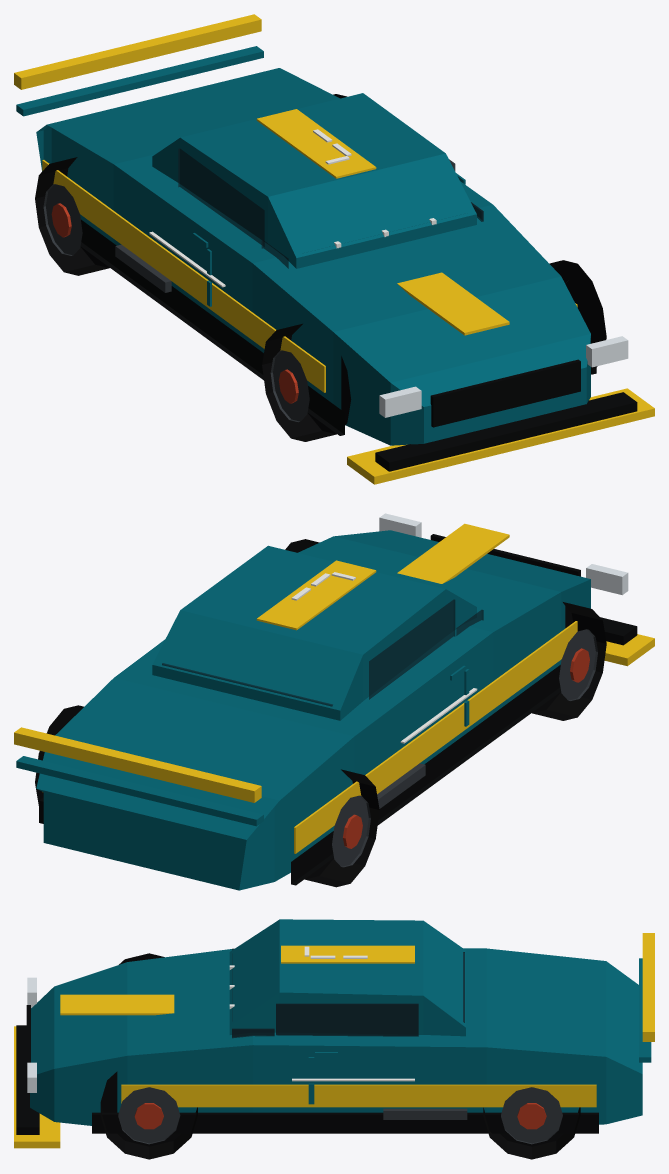
File: stock_car_07.obj
3 renders of one model, top to bottom at view 1: azimuth 30°, elevation 25°; view 2: azimuth 150°, elevation 25°; view 3: azimuth 270°, elevation 25°, orthographic. The views are drawn at different scales.
Visible parts, largest first — view 1: StockCar_07; view 2: StockCar_07; view 3: StockCar_07.
Boxes of the visible parts, x1,y1,x2,y2 form: StockCar_07: [14, 14, 654, 484]; StockCar_07: [14, 513, 654, 890]; StockCar_07: [14, 919, 654, 1159].
Bounding box in the file's own units: 2.35 × 1.34 × 5.26.
